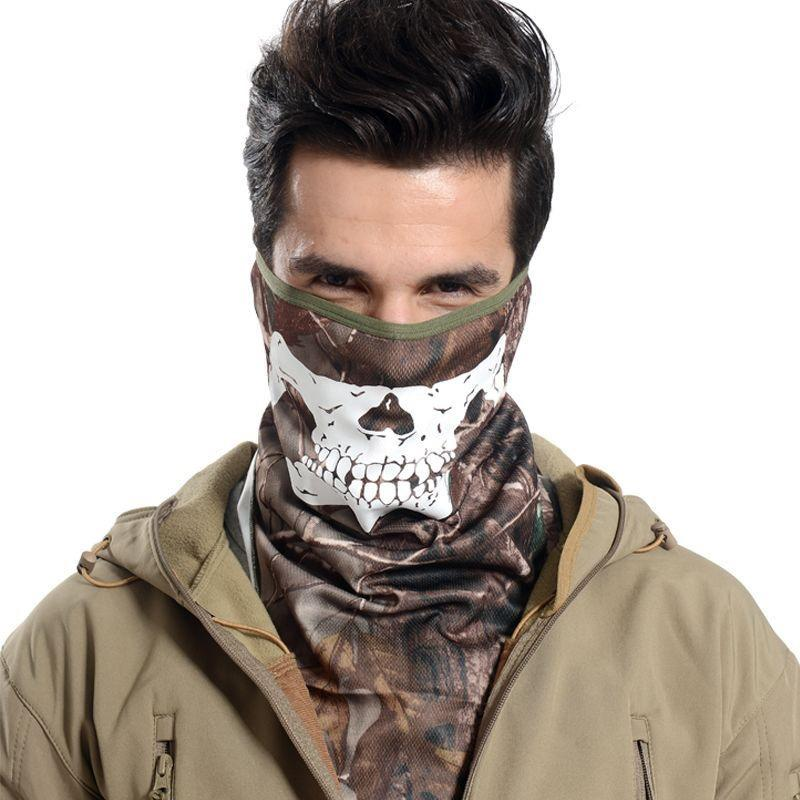OK: (261, 184, 523, 459)
